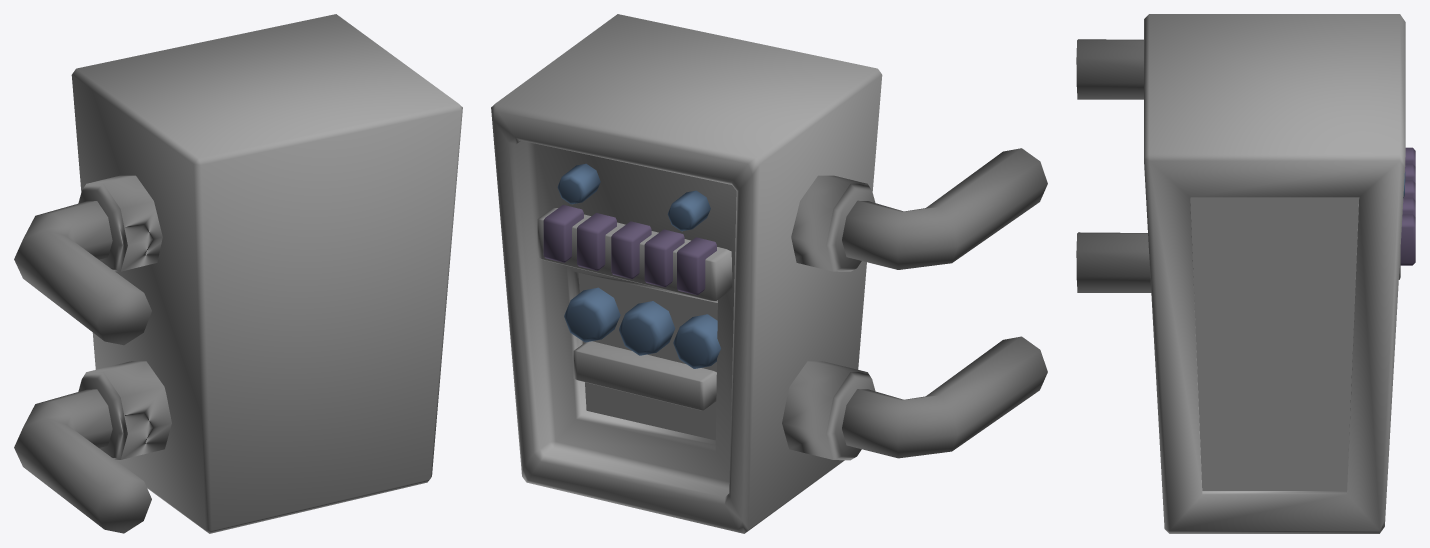
The model's file is props_panneau_electrique .fbx.
The picture shows the model from 3 angles, left to right: view 1: azimuth 30°, elevation 25°; view 2: azimuth 150°, elevation 25°; view 3: azimuth 270°, elevation 25°; orthographic projection. The views are drawn at different scales.
Visible parts, largest first — view 1: props_panneau electrique; view 2: props_panneau electrique; view 3: props_panneau electrique.
Part boxes in pixels (x1=…): props_panneau electrique: x1=14, y1=14, x2=462, y2=533; props_panneau electrique: x1=491, y1=14, x2=1047, y2=533; props_panneau electrique: x1=1076, y1=14, x2=1415, y2=533.
Size of the model in its own units: 0.668 by 0.4773 by 0.6217.
